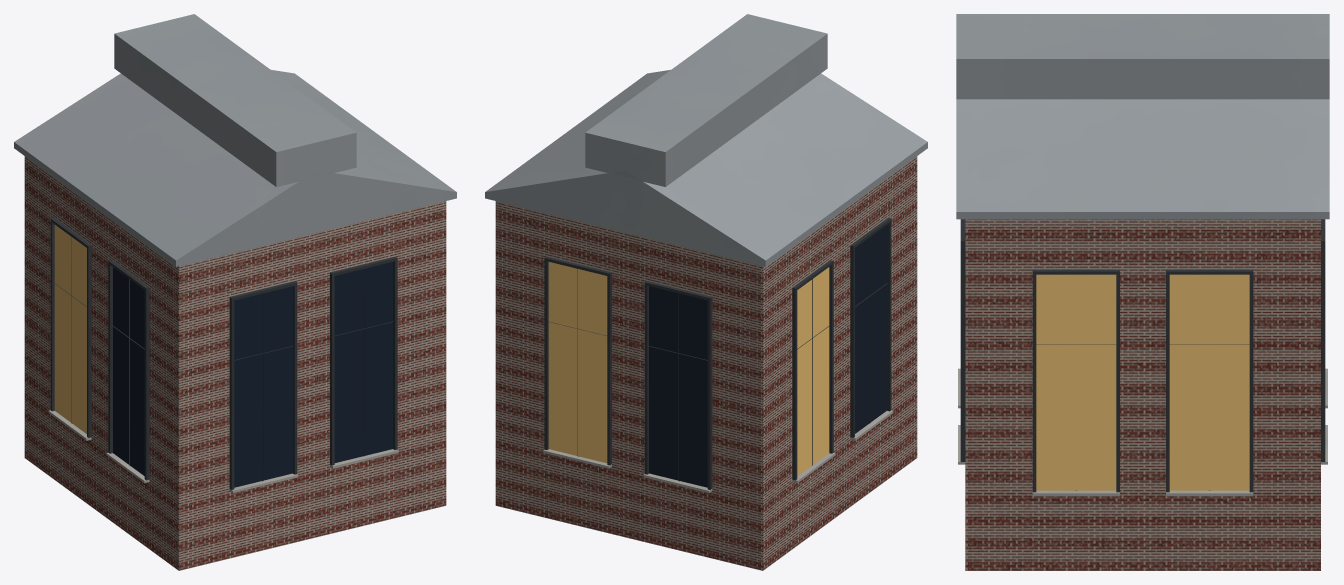
The model's file is pv_kotelna.glb.
3 views of the same model, side by side, from view 1: azimuth 30°, elevation 25°; view 2: azimuth 150°, elevation 25°; view 3: azimuth 270°, elevation 25° (orthographic). The views are drawn at different scales.
Visible parts, largest first — view 1: dum, noc; view 2: dum, noc; view 3: dum, noc.
Part boxes in pixels (x1,y1,x2,y2): dum: (14, 14, 456, 570); noc: (54, 225, 86, 433); dum: (485, 14, 927, 570); noc: (548, 262, 829, 476); dum: (956, 14, 1329, 570); noc: (1036, 274, 1249, 490).
Bounding box in the file's own units: 8.38 × 11.37 × 8.38.
1 material, 1 textured.
